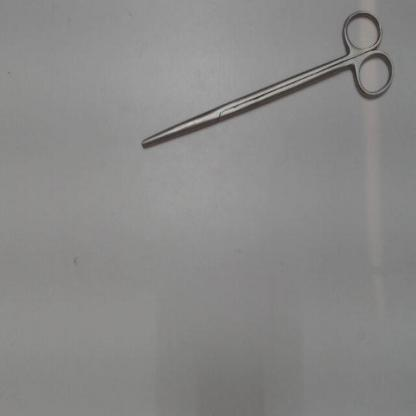9 Metzenbaum Scissors: (139, 4, 399, 154)
